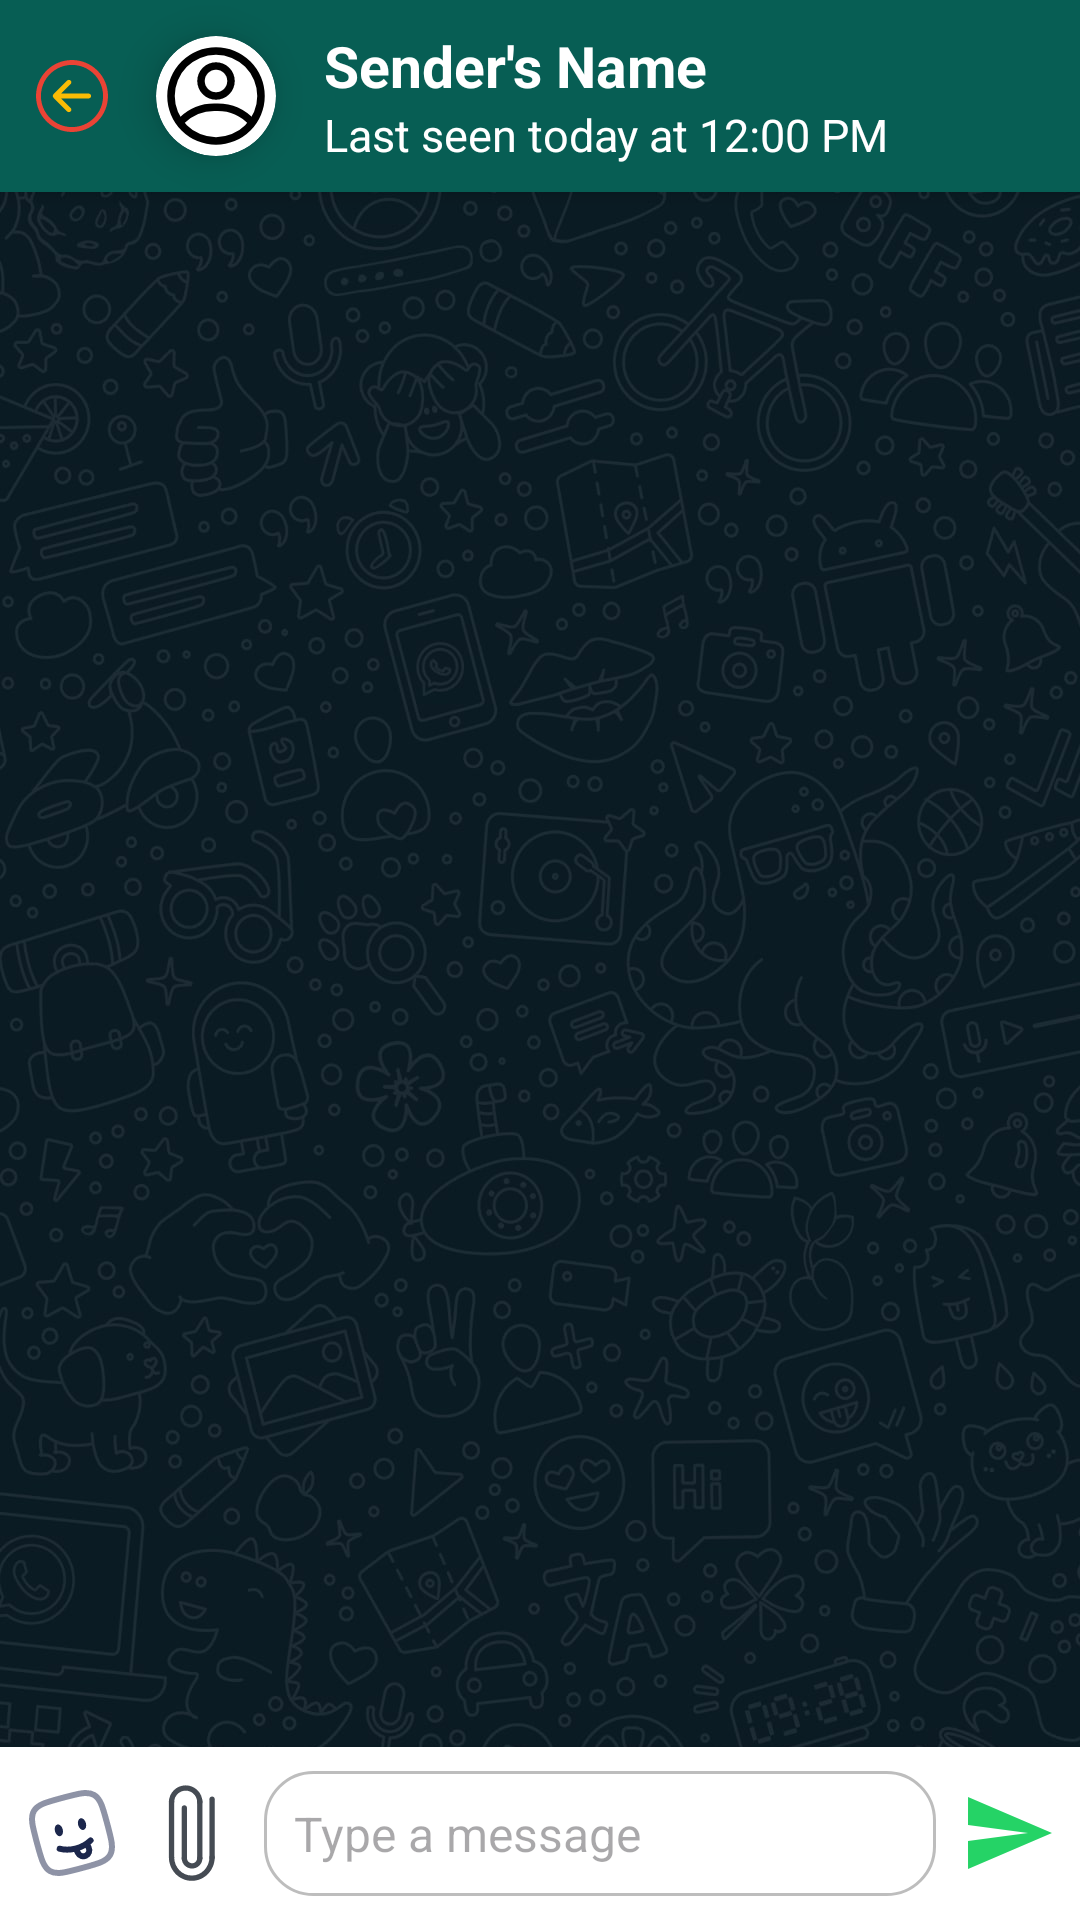

Icons on this 1080px×1920px Android screen, each with the point to tap as (x,y):
Attach File: (191,1833)
back: (72,96)
Emoji: (72,1833)
profile: (216,96)
Send Message: (1010,1833)
